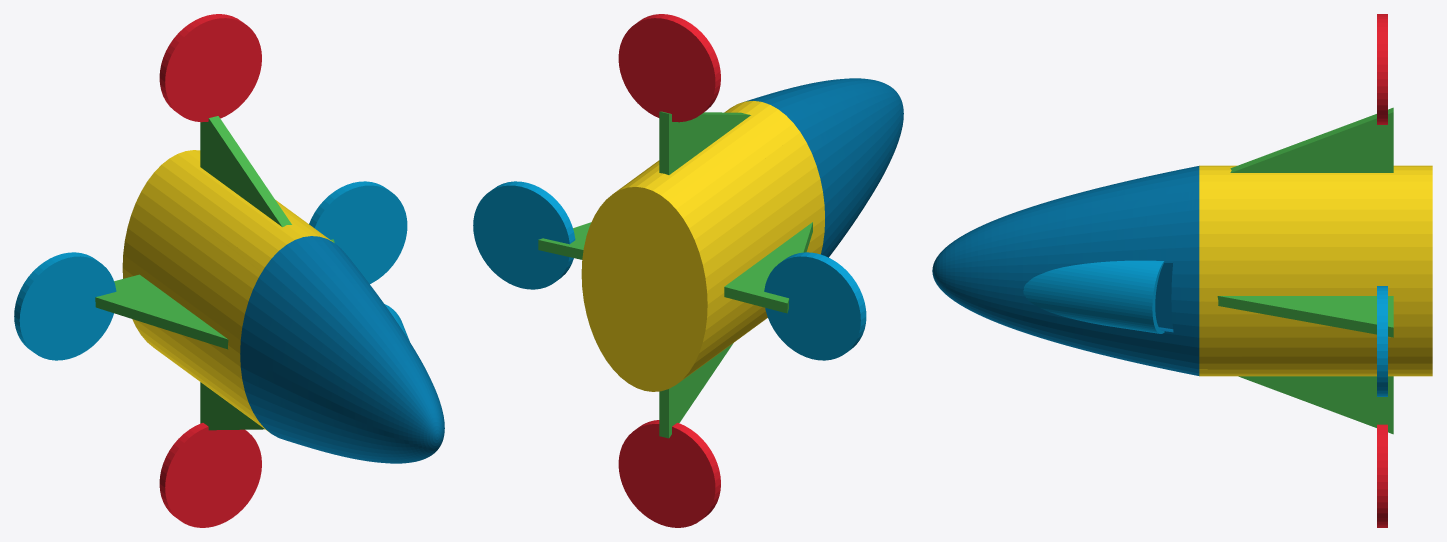
Rendered from tinker.obj.
3 views of the same model, side by side, from view 1: azimuth 30°, elevation 25°; view 2: azimuth 150°, elevation 25°; view 3: azimuth 270°, elevation 25° (orthographic).
Parts seen in each view (by area): view 1: group_0_30377, group_0_16768282, group_0_15277357, group_0_40919, group_0_4634441; view 2: group_0_16768282, group_0_15277357, group_0_40919, group_0_30377, group_0_4634441; view 3: group_0_16768282, group_0_30377, group_0_4634441, group_0_40919, group_0_15277357.
Part boxes in pixels (x1,y1,x2,y2): group_0_30377: (240, 236, 444, 463); group_0_16768282: (122, 150, 333, 432); group_0_15277357: (159, 14, 261, 527); group_0_40919: (14, 181, 409, 360); group_0_4634441: (95, 116, 334, 430); group_0_16768282: (581, 101, 824, 391); group_0_15277357: (618, 14, 720, 527); group_0_40919: (473, 181, 866, 360); group_0_30377: (744, 78, 903, 257); group_0_4634441: (538, 111, 812, 438); group_0_16768282: (1199, 165, 1432, 376); group_0_30377: (932, 166, 1199, 375); group_0_4634441: (1217, 107, 1393, 434); group_0_40919: (1023, 260, 1387, 396); group_0_15277357: (1377, 14, 1387, 527).
Size of the model in its own units: 40 by 50 by 45.
